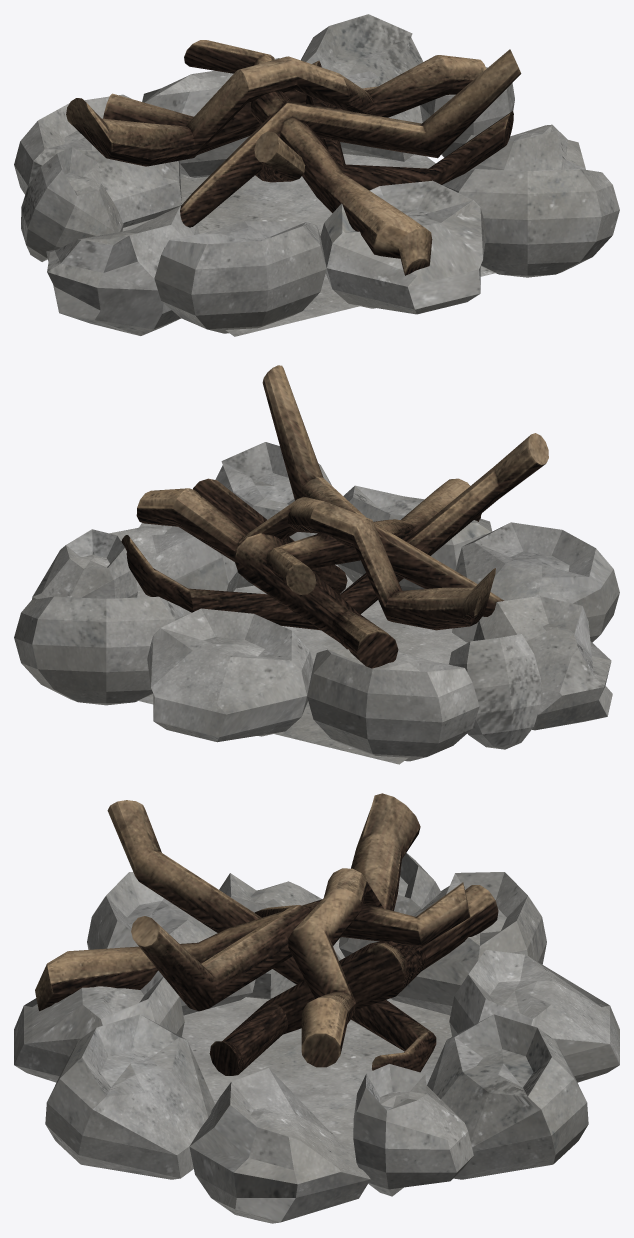
The model's file is campfire_focal_point_2_from_3d_scene.glb.
3 views of the same model, one above another, from view 1: azimuth 30°, elevation 25°; view 2: azimuth 150°, elevation 25°; view 3: azimuth 270°, elevation 25° (orthographic). The views are drawn at different scales.
Parts seen in each view (by area): view 1: Rock-1.002, Rock-1.001, Rock-1, Wood-Log.002, Rock, Wood-Log.001, Wood-Log, Rock-1.004, Wood-Log.003, Campfire-Base, Wood-Log.004, Rock-1.003; view 2: Rock-1.002, Rock-1, Rock-1.001, Rock, Wood-Log.002, Wood-Log.004, Wood-Log.003, Wood-Log.001, Rock-1.004, Campfire-Base, Rock-1.003, Wood-Log; view 3: Rock-1.001, Rock, Rock-1, Wood-Log.002, Rock-1.002, Campfire-Base, Rock-1.003, Wood-Log.003, Wood-Log.004, Wood-Log, Wood-Log.001, Rock-1.004.
Part boxes in pixels (left/top/right/bottom): Rock-1.002: left=14, top=94, right=326, bottom=333; Rock-1.001: left=301, top=14, right=619, bottom=277; Rock-1: left=142, top=58, right=486, bottom=314; Wood-Log.002: left=66, top=55, right=486, bottom=166; Rock: left=46, top=124, right=585, bottom=335; Wood-Log.001: left=180, top=49, right=521, bottom=227; Wood-Log: left=184, top=40, right=432, bottom=275; Rock-1.004: left=21, top=147, right=123, bottom=261; Wood-Log.003: left=103, top=60, right=513, bottom=190; Campfire-Base: left=122, top=154, right=496, bottom=336; Wood-Log.004: left=254, top=86, right=377, bottom=182; Rock-1.003: left=420, top=67, right=514, bottom=157; Rock-1.002: left=307, top=522, right=619, bottom=761; Rock-1: left=147, top=485, right=492, bottom=742; Rock-1.001: left=14, top=442, right=331, bottom=705; Rock: left=109, top=523, right=612, bottom=730; Wood-Log.002: left=136, top=488, right=495, bottom=630; Wood-Log.004: left=121, top=433, right=548, bottom=630; Wood-Log.003: left=193, top=478, right=398, bottom=668; Wood-Log.001: left=262, top=365, right=503, bottom=616; Rock-1.004: left=449, top=634, right=540, bottom=749; Campfire-Base: left=137, top=564, right=467, bottom=764; Rock-1.003: left=32, top=529, right=137, bottom=599; Wood-Log: left=266, top=478, right=481, bottom=594; Rock-1.001: left=45, top=1014, right=588, bottom=1179; Rock: left=189, top=873, right=370, bottom=1223; Rock-1: left=14, top=950, right=619, bottom=1082; Wood-Log.002: left=288, top=793, right=420, bottom=1067; Rock-1.002: left=87, top=872, right=546, bottom=1015; Campfire-Base: left=182, top=997, right=451, bottom=1158; Rock-1.003: left=353, top=1064, right=473, bottom=1196; Wood-Log.003: left=209, top=885, right=498, bottom=1075; Wood-Log.004: left=107, top=800, right=436, bottom=1072; Wood-Log: left=35, top=882, right=470, bottom=1010; Wood-Log.001: left=131, top=905, right=311, bottom=1011; Rock-1.004: left=339, top=853, right=440, bottom=957.
Size of the model in its own units: 3.23 by 1.39 by 2.87.
1 material, 1 textured.
